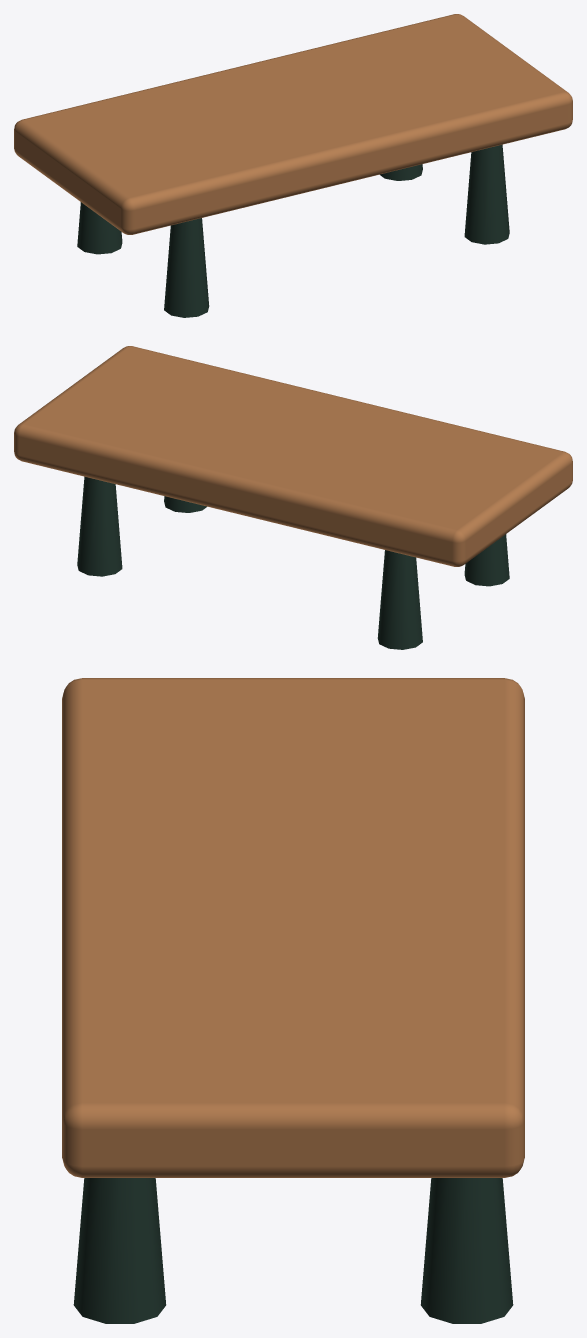
The model's file is monitor-stand.glb.
3 views of the same model, one above another, from view 1: azimuth 30°, elevation 25°; view 2: azimuth 150°, elevation 25°; view 3: azimuth 270°, elevation 25° (orthographic). The views are drawn at different scales.
Parts seen in each view (by area): view 1: monitor_stand; view 2: monitor_stand; view 3: monitor_stand.
Part boxes in pixels (bbox=[...]): monitor_stand: bbox=[14, 14, 572, 317]; monitor_stand: bbox=[14, 346, 572, 649]; monitor_stand: bbox=[62, 678, 524, 1323].
Size of the model in its own units: 0.9 by 0.255 by 0.4.
